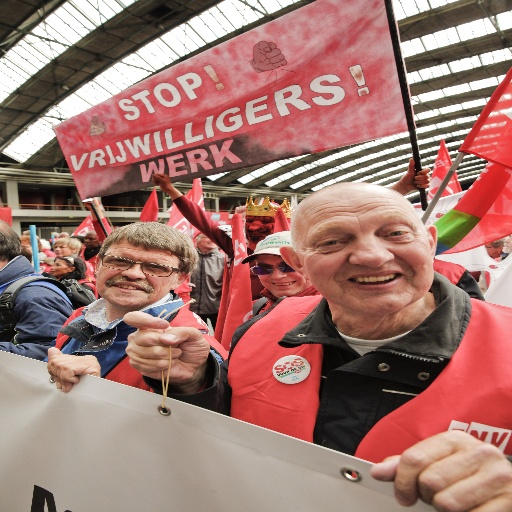hand: (370, 427, 511, 511), (113, 300, 214, 363), (46, 347, 100, 392), (399, 157, 431, 191), (150, 172, 174, 192), (82, 199, 98, 211)
